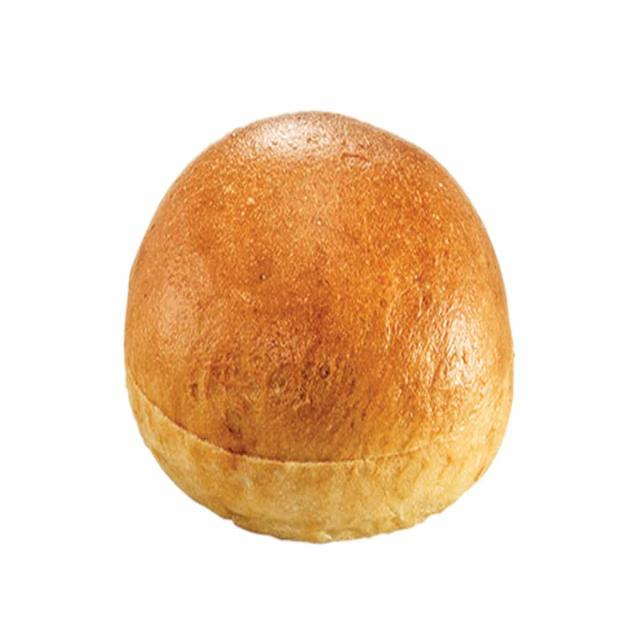Bun: (117, 95, 516, 550)
